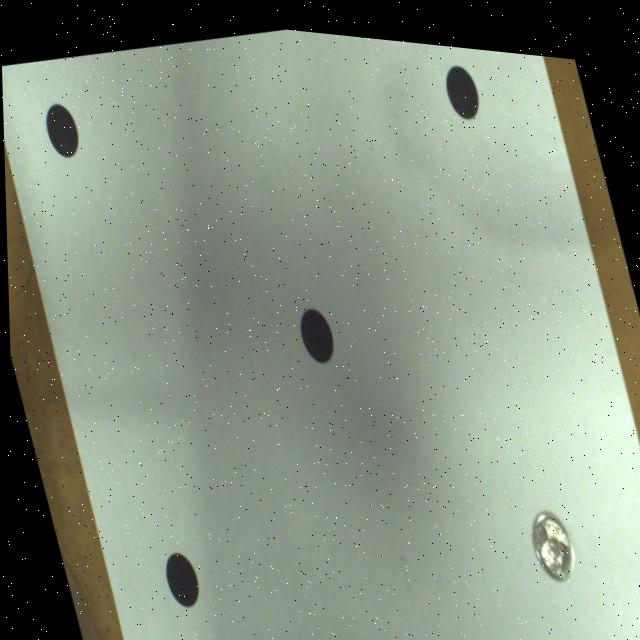head1bath: (529, 500, 571, 569)
space: (298, 300, 332, 356), (162, 548, 195, 603), (446, 55, 478, 109), (45, 103, 78, 155)
